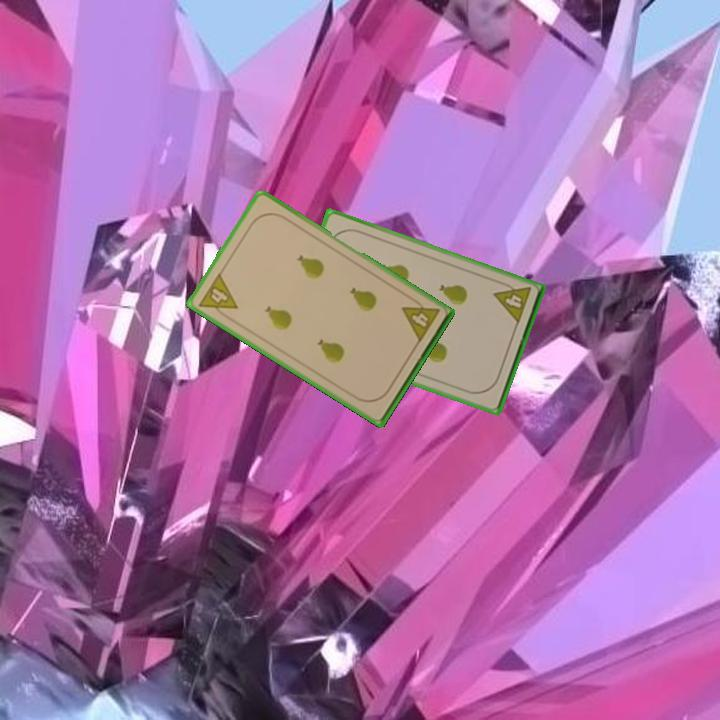4p: (195, 269, 240, 323), (398, 293, 442, 345), (490, 278, 534, 327)
